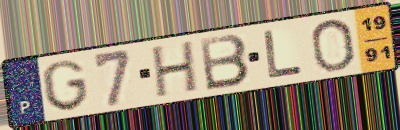7: (91, 49, 134, 109)
B: (197, 32, 253, 93)
G: (39, 57, 91, 113)
H: (151, 38, 200, 101)
L: (262, 28, 306, 82)
O: (308, 16, 357, 74)
